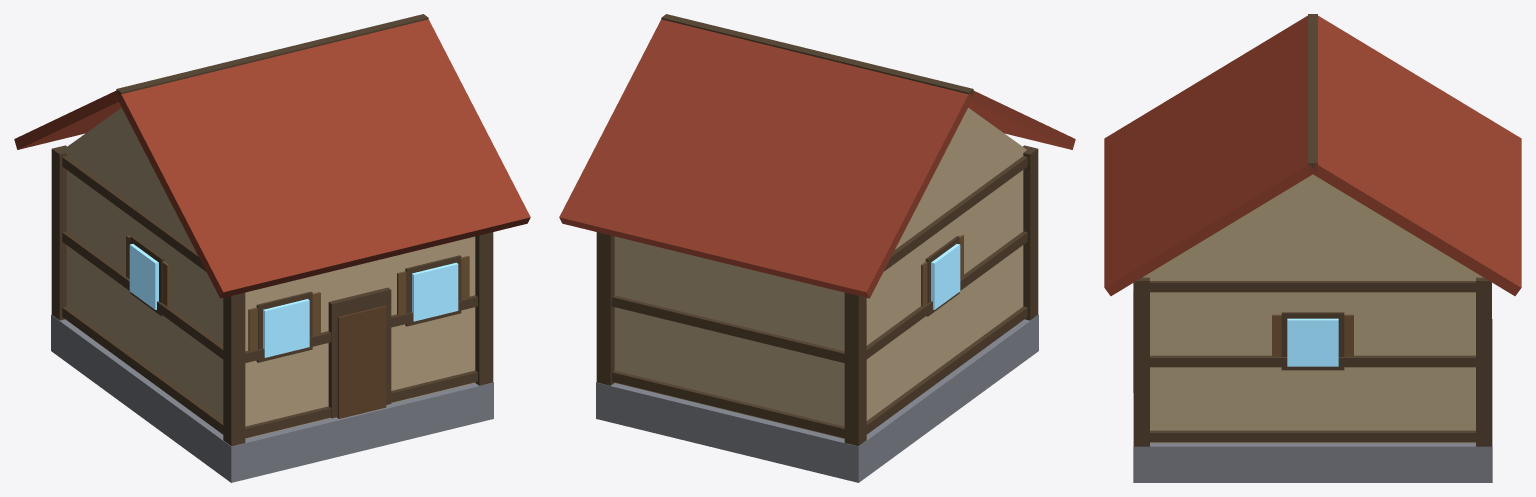
File: Building_1.glb
3 renders of one model, left to right at view 1: azimuth 30°, elevation 25°; view 2: azimuth 150°, elevation 25°; view 3: azimuth 270°, elevation 25°, orthographic.
Bounding box in the file's own units: 6.2 × 6.39 × 7.31.
